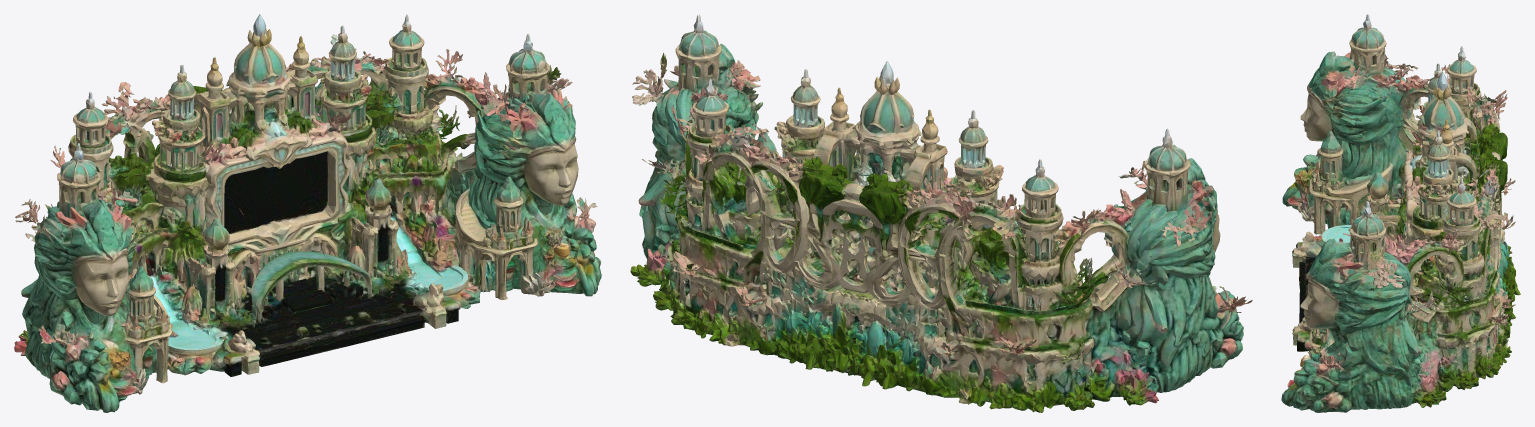
File: fest_stage.glb
The picture shows the model from 3 angles, left to right: view 1: azimuth 30°, elevation 25°; view 2: azimuth 150°, elevation 25°; view 3: azimuth 270°, elevation 25°; orthographic projection. The views are drawn at different scales.
Parts seen in each view (by area): view 1: Mesh_0; view 2: Mesh_0; view 3: Mesh_0.
Part boxes in pixels (<box>): Mesh_0: <box>14,14,601,412</box>; Mesh_0: <box>630,14,1252,412</box>; Mesh_0: <box>1281,14,1520,412</box>.
Bounding box in the file's own units: 1.87 × 0.869 × 0.8093.
1 material, 1 textured.
